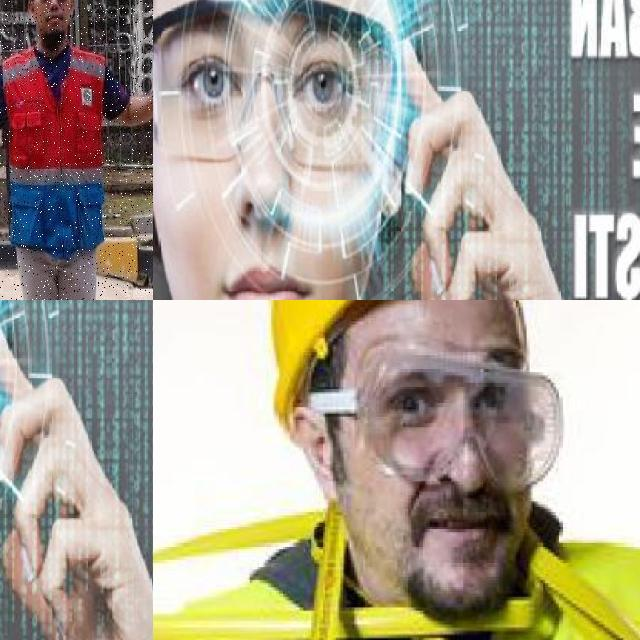No_Ear-Protection: (284, 398, 354, 514)
face_nomask: (164, 40, 370, 300), (370, 361, 544, 554)
glasses: (153, 0, 401, 172), (360, 335, 567, 495)
hand_noglove: (0, 318, 151, 640), (385, 31, 560, 300)
head_nohelmet: (250, 300, 539, 353)
person: (165, 300, 640, 640), (0, 0, 153, 300)
vest: (177, 525, 640, 640), (0, 41, 109, 250)
